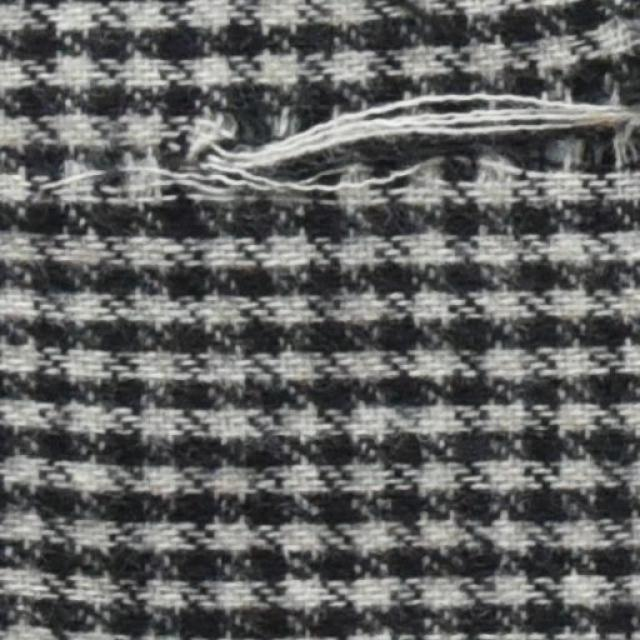Snag: (9, 31, 639, 224)
